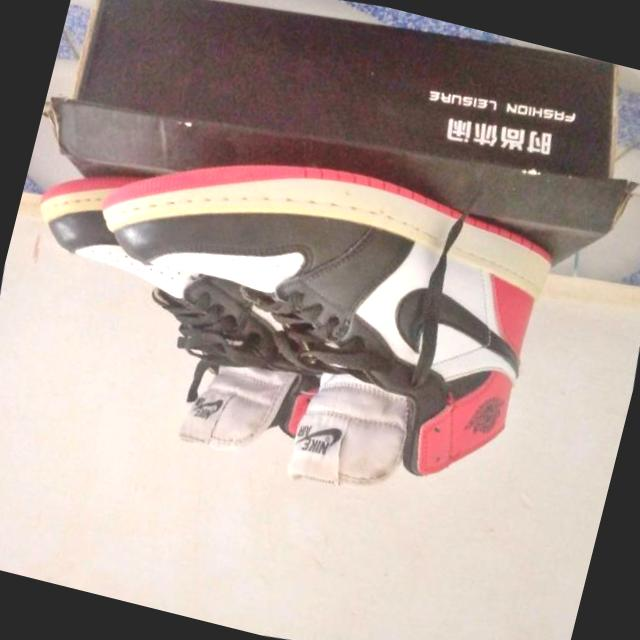nike_fake_jordan: (34, 90, 594, 558), (0, 134, 369, 487)
